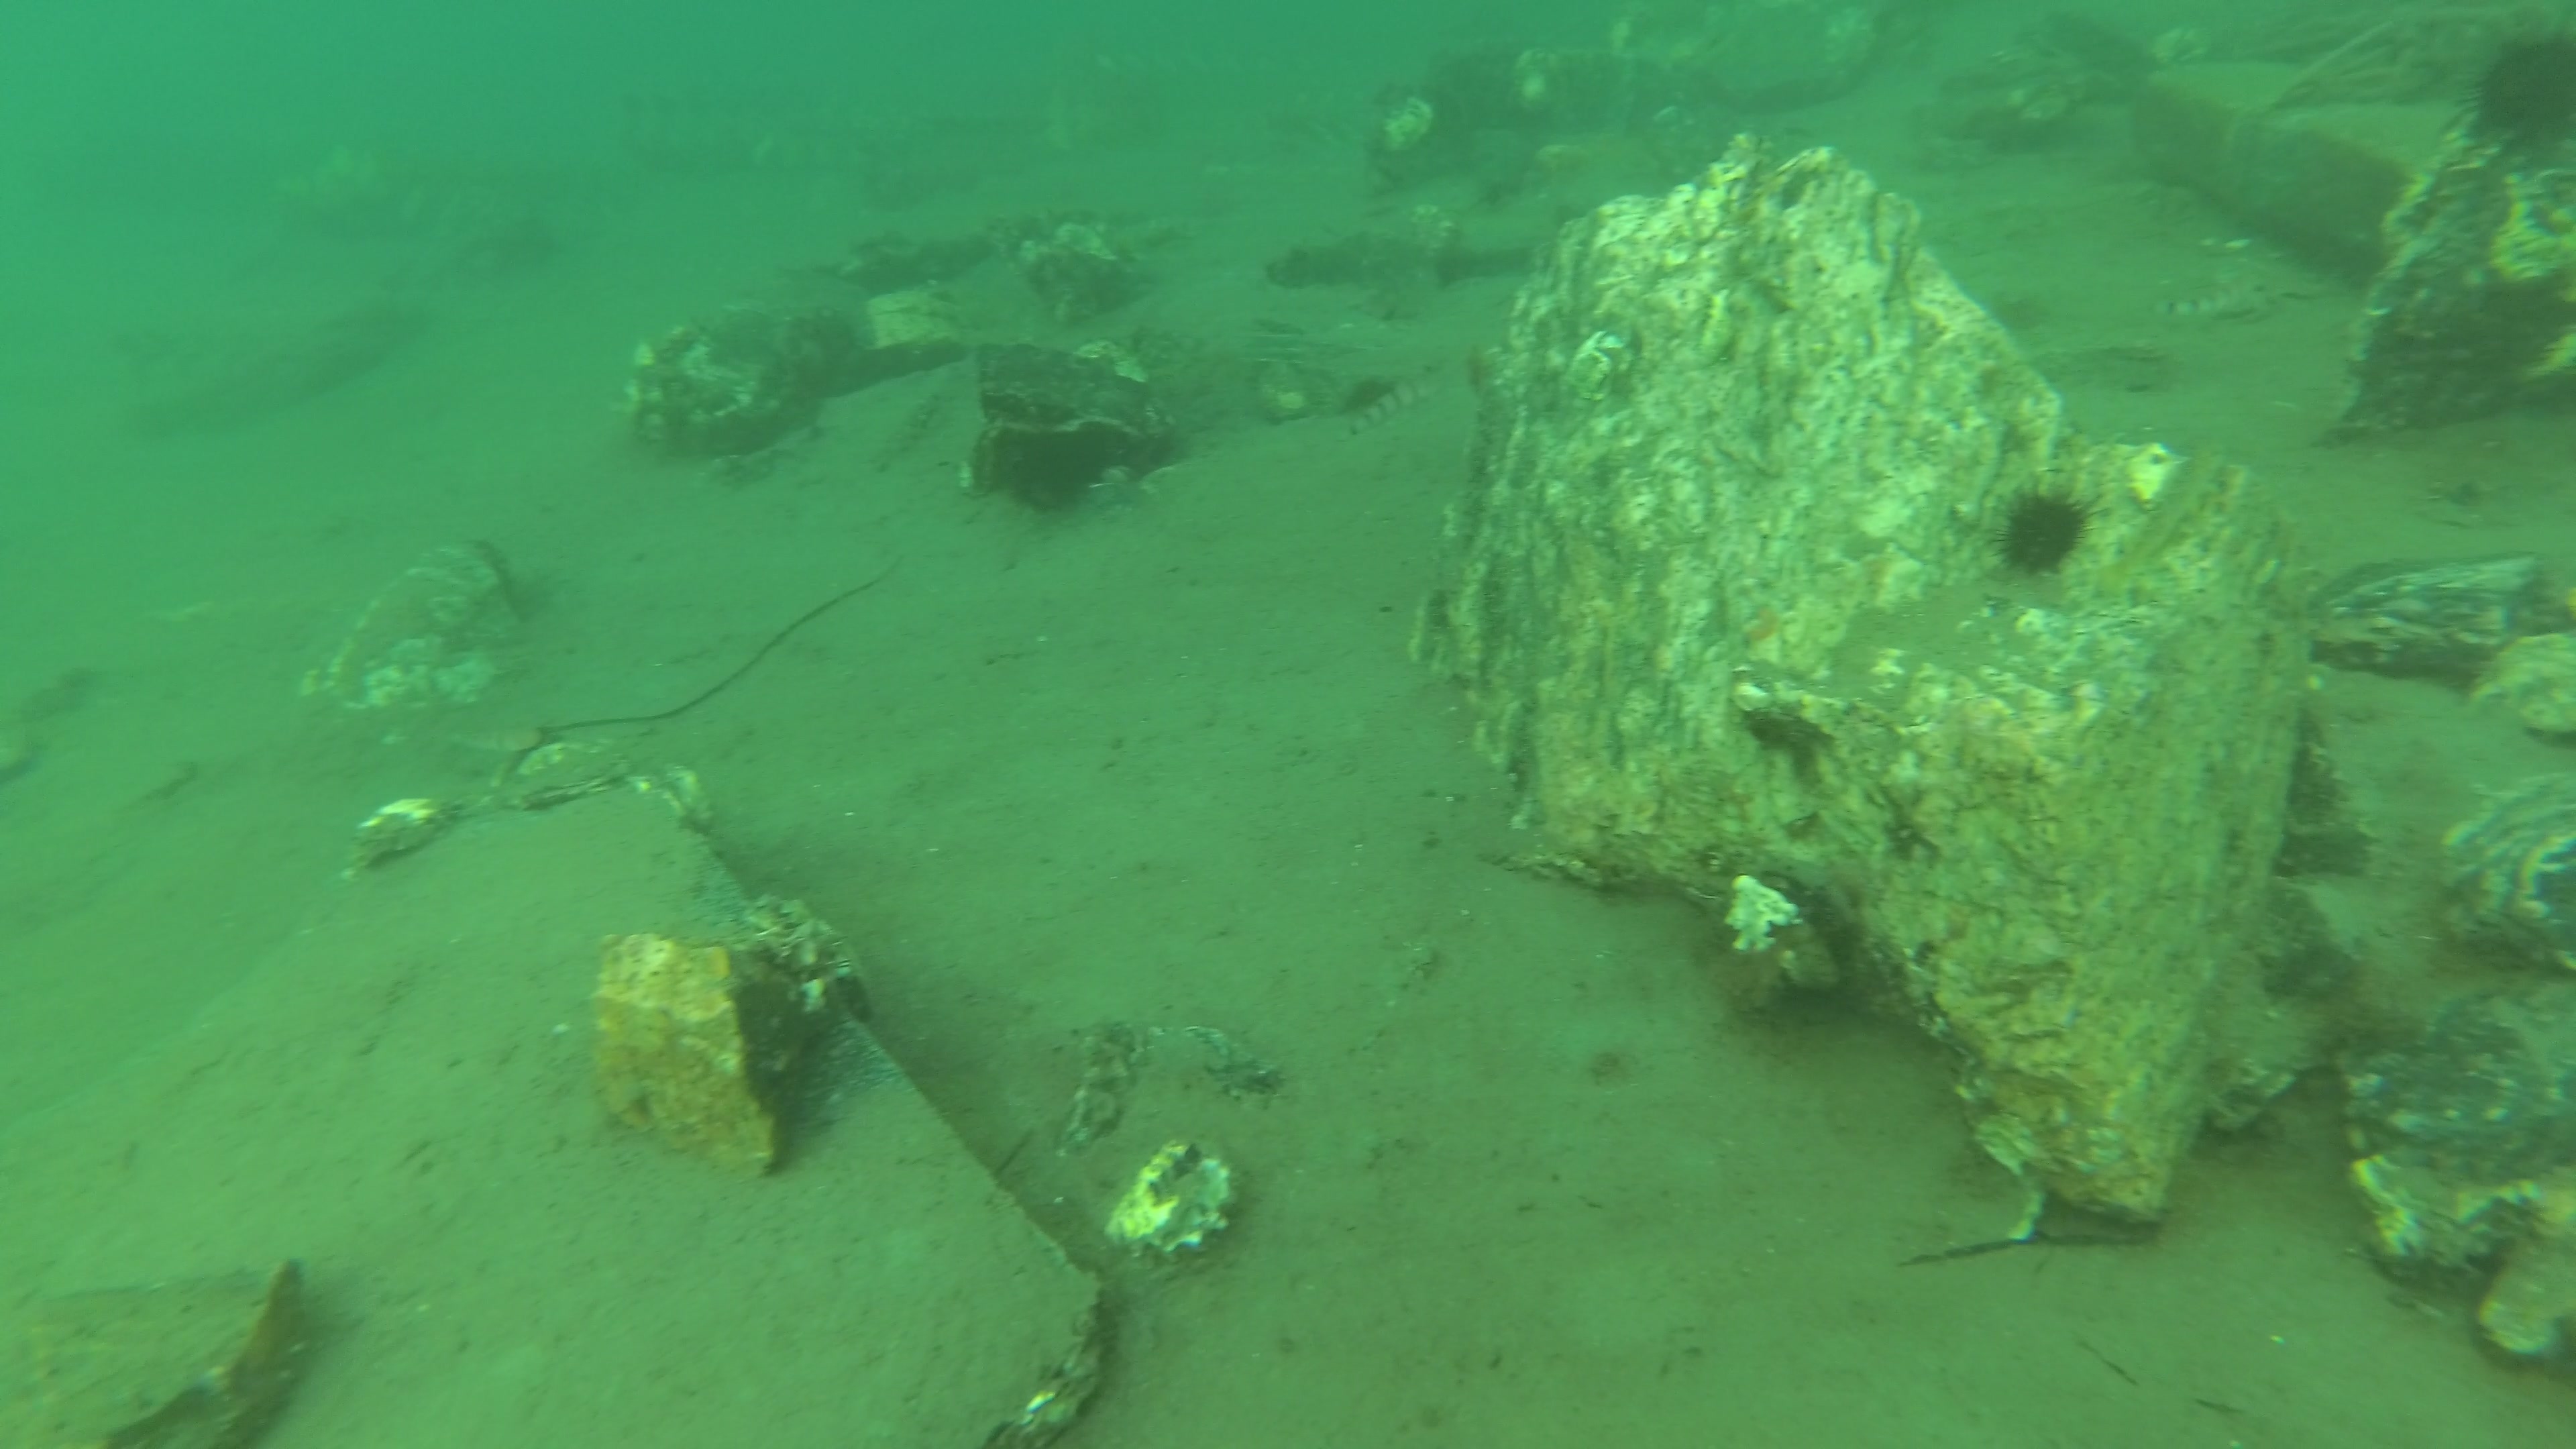echinus: (2465, 37, 2576, 142), (1987, 483, 2097, 586)
